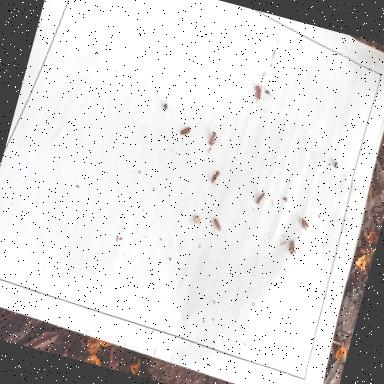pbw: (250, 84, 264, 104), (286, 240, 299, 258), (254, 191, 266, 207), (207, 130, 218, 146), (210, 170, 220, 187), (298, 218, 310, 231), (212, 218, 224, 231), (180, 125, 192, 138)
